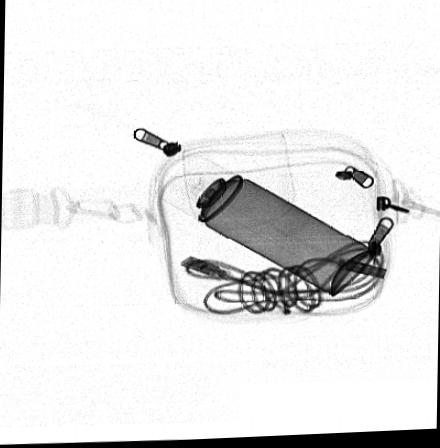Sprayer: (155, 152, 372, 299)
